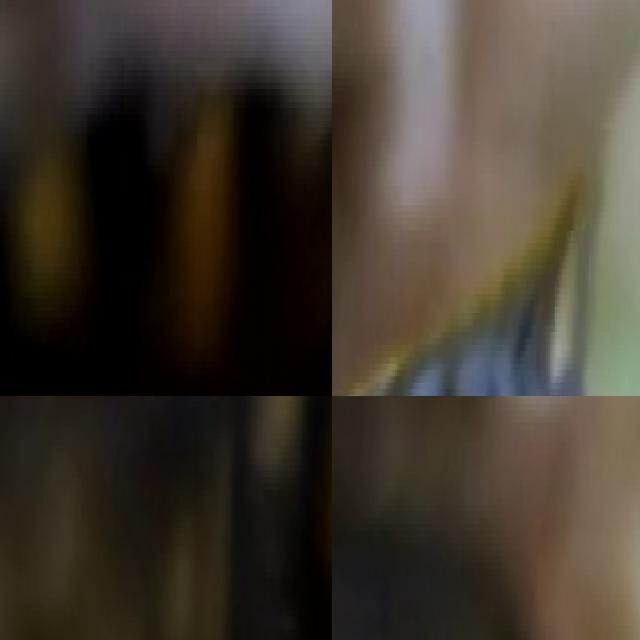fish: (0, 0, 332, 396), (0, 396, 332, 640)
